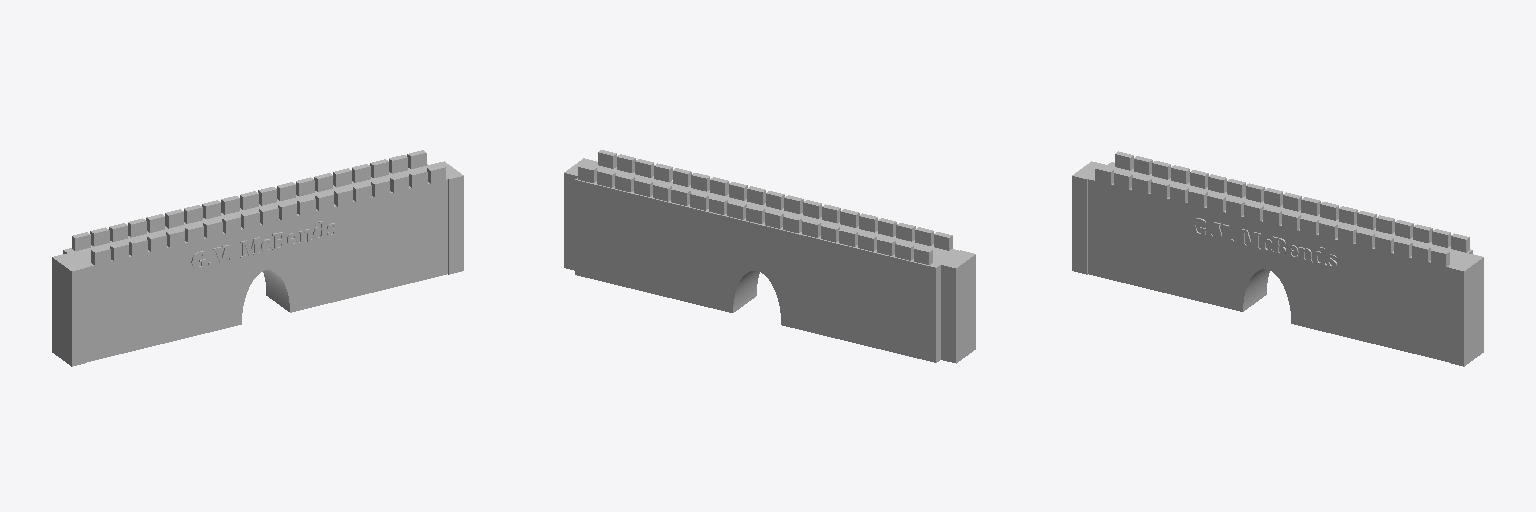
The model's file is front_wall.obj.
3 views of the same model, side by side, from view 1: azimuth 30°, elevation 25°; view 2: azimuth 150°, elevation 25°; view 3: azimuth 330°, elevation 25° (orthographic).
Parts seen in each view (by area): view 1: Front_Wall_Front_Wall.001; view 2: Front_Wall_Front_Wall.001; view 3: Front_Wall_Front_Wall.001.
Boxes of the visible parts, x1=… form: Front_Wall_Front_Wall.001: x1=52, y1=150, x2=463, y2=366; Front_Wall_Front_Wall.001: x1=564, y1=150, x2=975, y2=363; Front_Wall_Front_Wall.001: x1=1072, y1=151, x2=1483, y2=366.
Bounding box in the file's own units: 509 × 134 × 55.